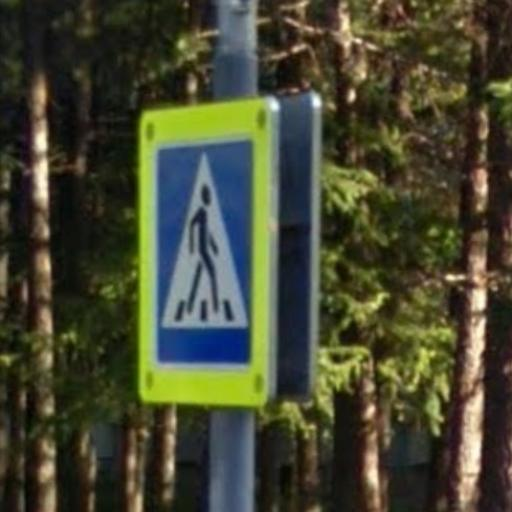traffic_sign: (131, 93, 285, 412)
